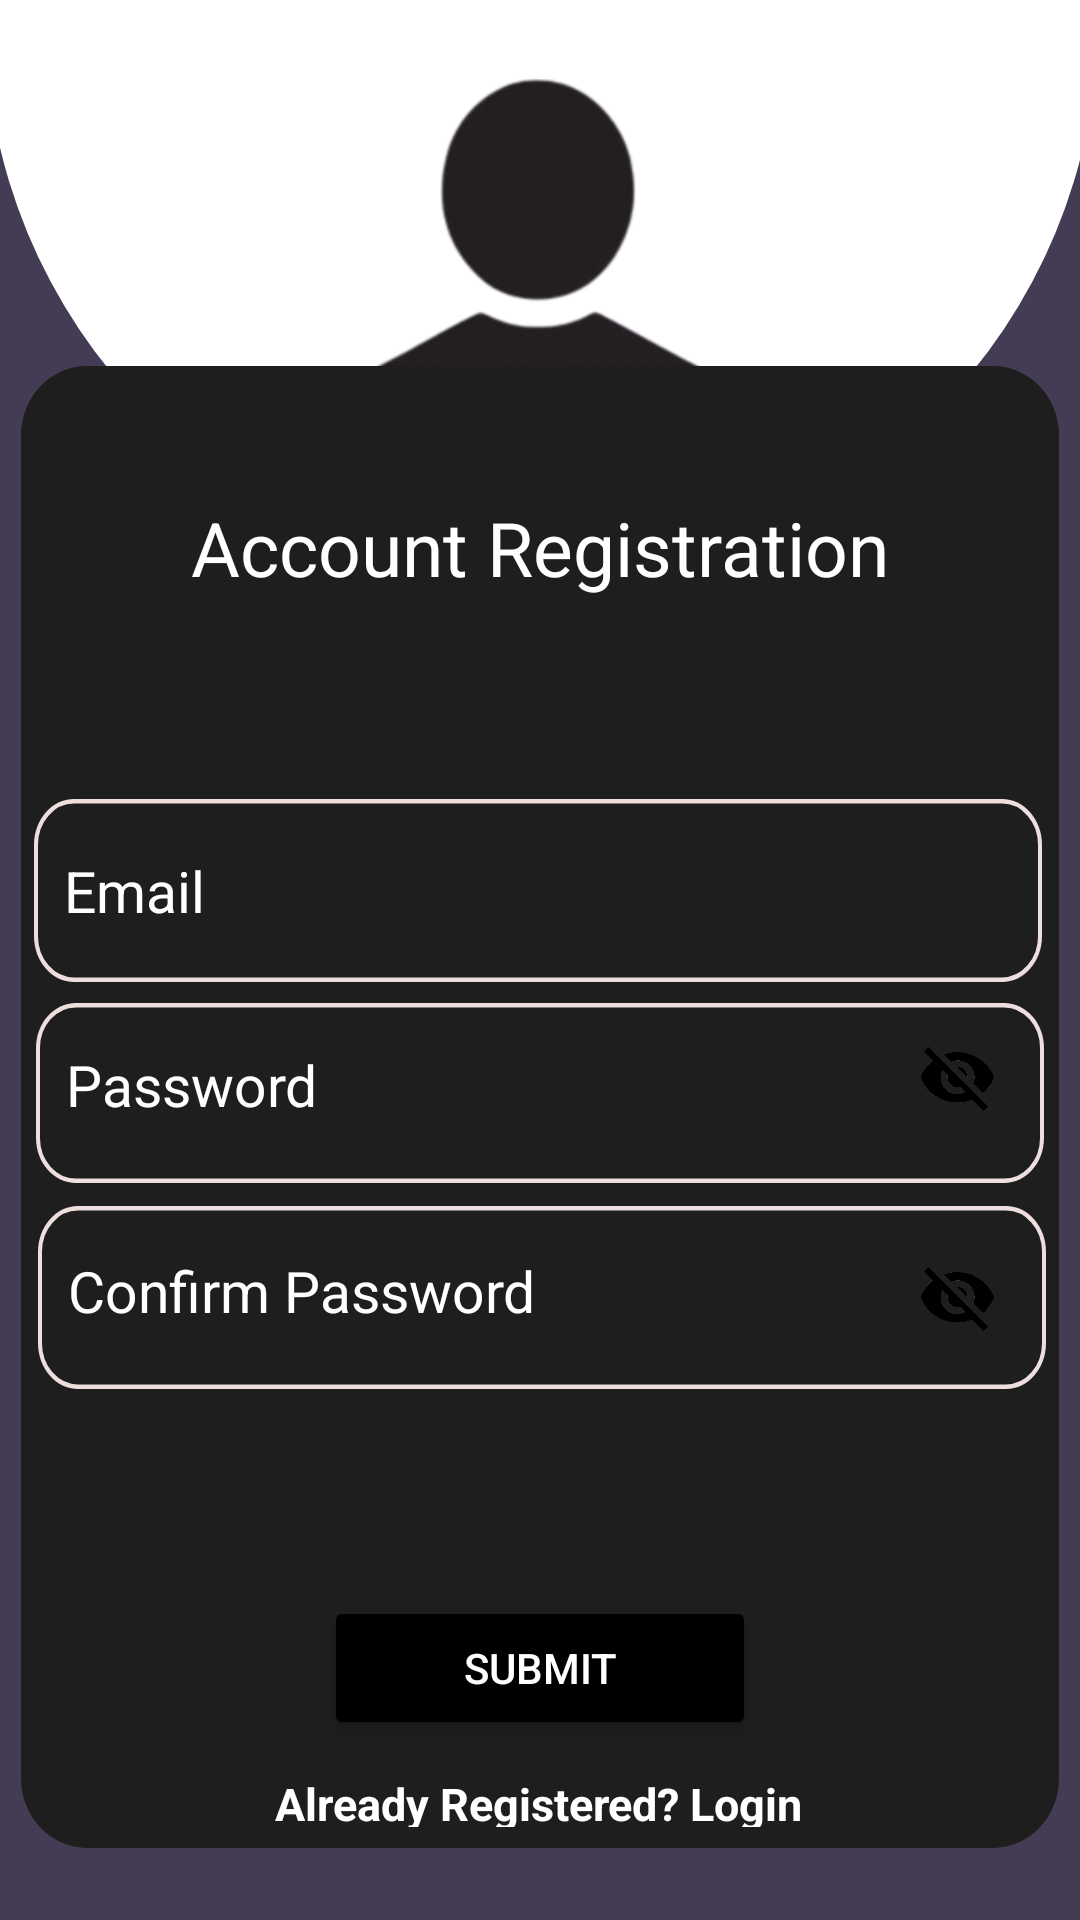

Icon bounding boxes for this 1080 x 1920 phone screenshot, format box(x1, y1, x2, y2):
passeyeclose: box(921, 1047, 994, 1111), box(921, 1267, 994, 1331)
